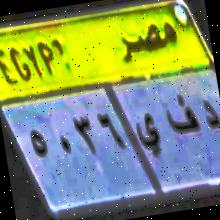0: (56, 124, 75, 168)
3: (71, 108, 97, 156)
5: (26, 122, 52, 162)
6: (93, 102, 126, 158)
daal: (197, 81, 220, 143)
faa: (161, 89, 202, 141)
yaa: (132, 101, 164, 162)
